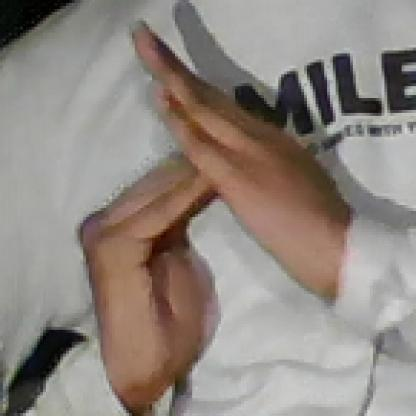Z: (44, 15, 328, 363)
